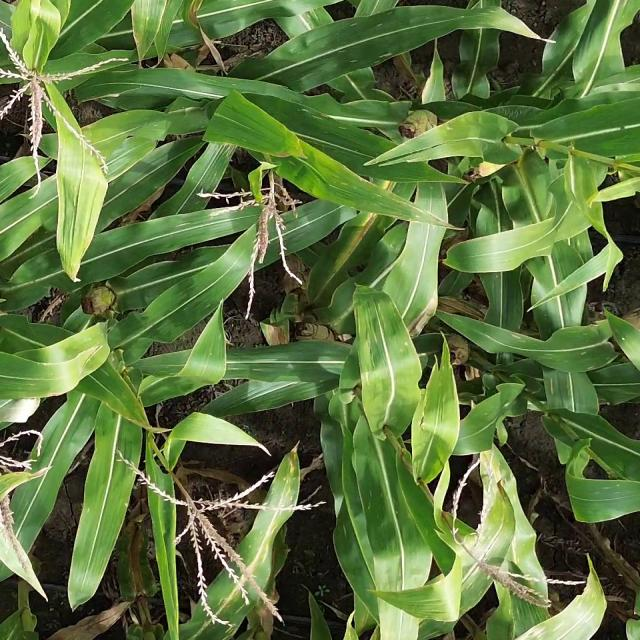gray-leaf-spot: (361, 318, 429, 414)
southern-leaf-blight: (316, 168, 428, 228), (326, 21, 417, 72), (177, 298, 236, 374), (259, 448, 312, 528), (546, 326, 631, 374)
